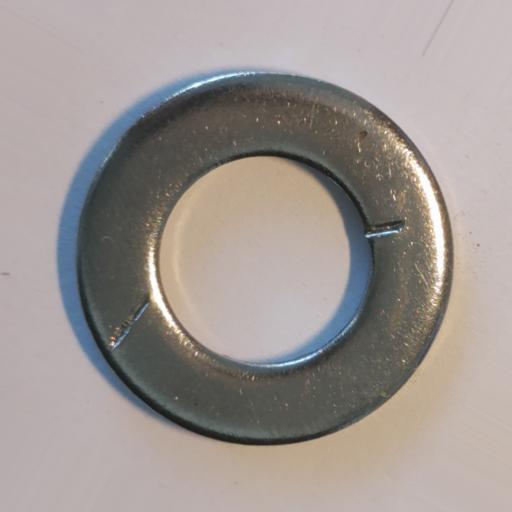scratch: (108, 300, 151, 351), (364, 220, 404, 240)
